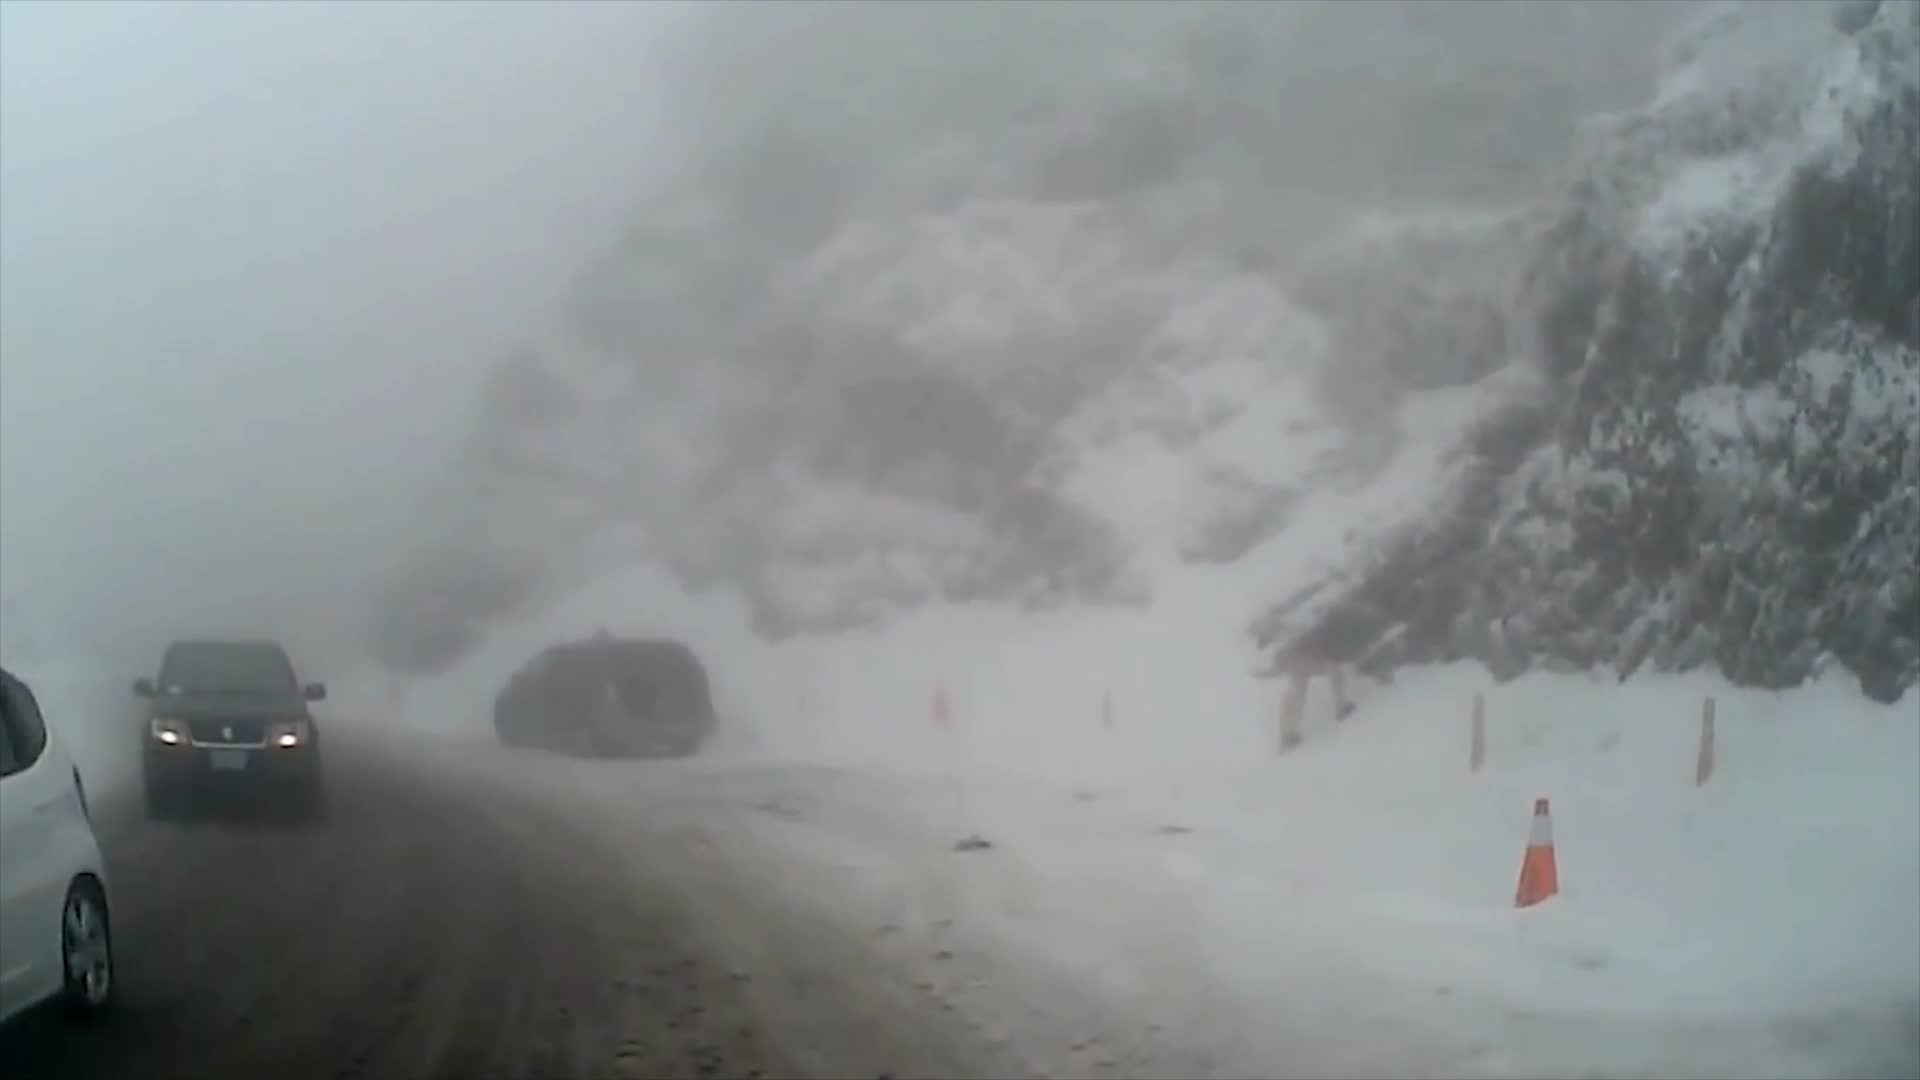vehicle: (0, 655, 120, 1039), (127, 634, 328, 820), (487, 625, 709, 750)
